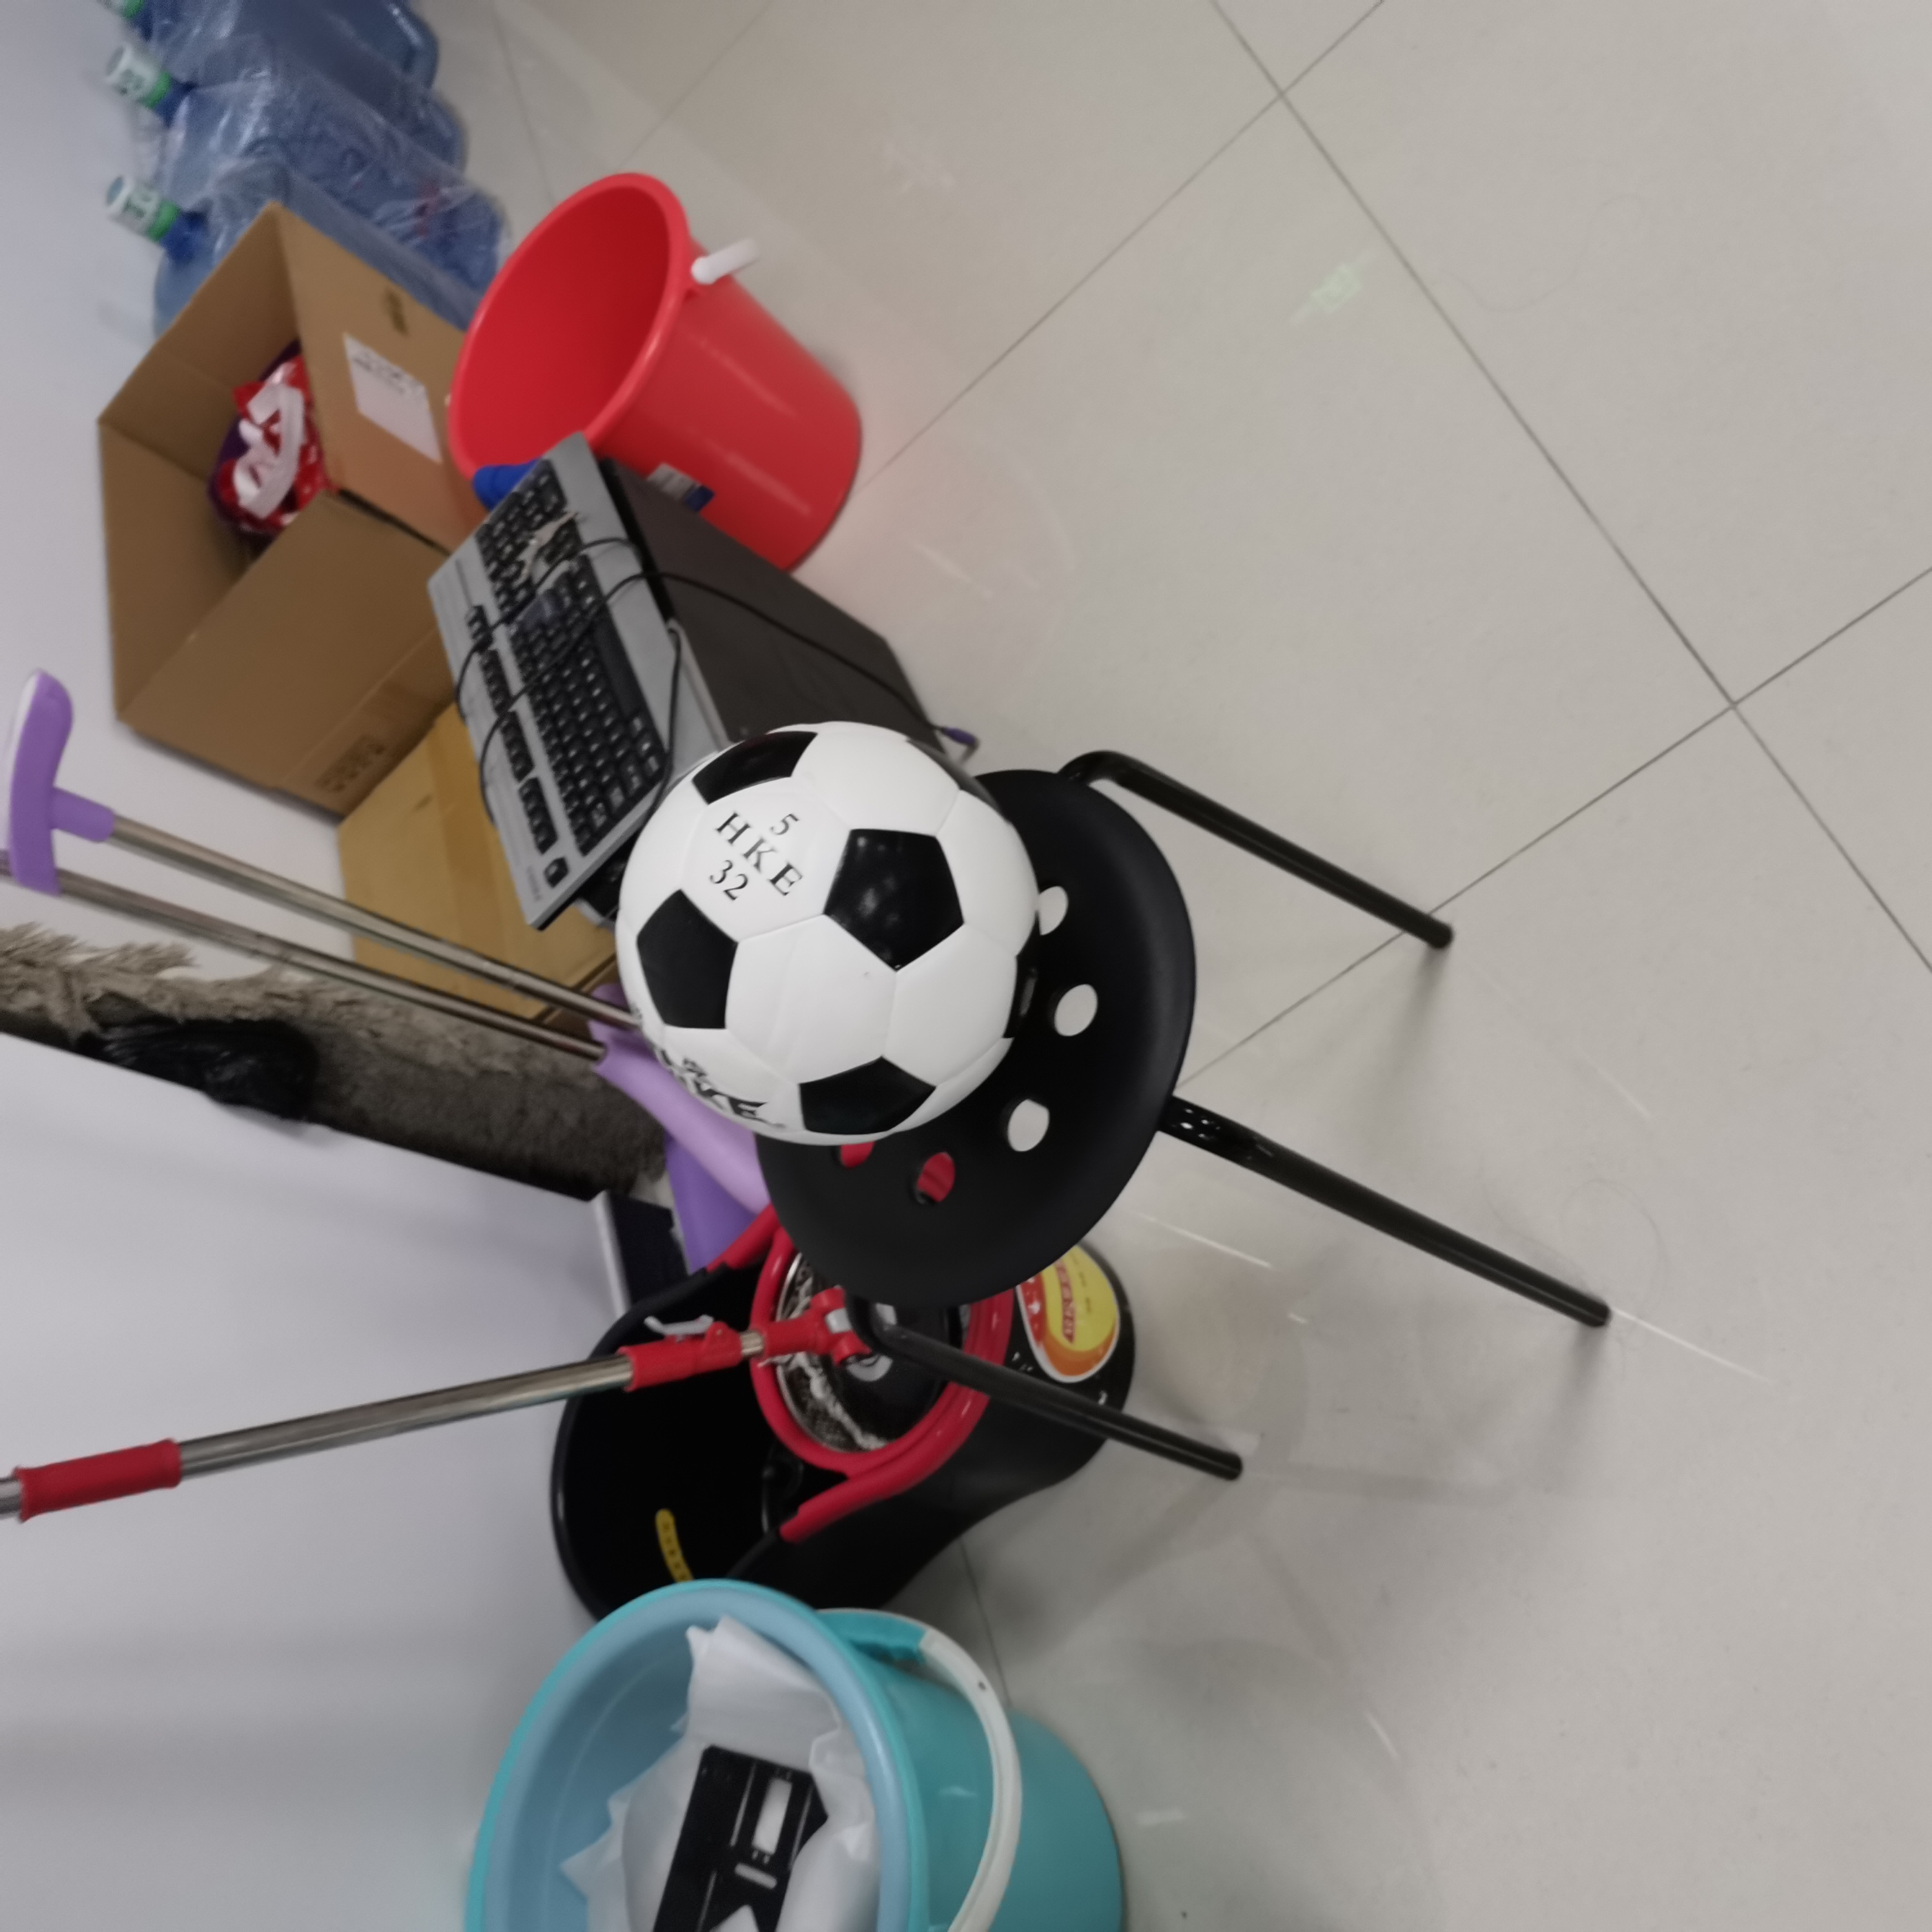football: (610, 724, 1046, 1154)
